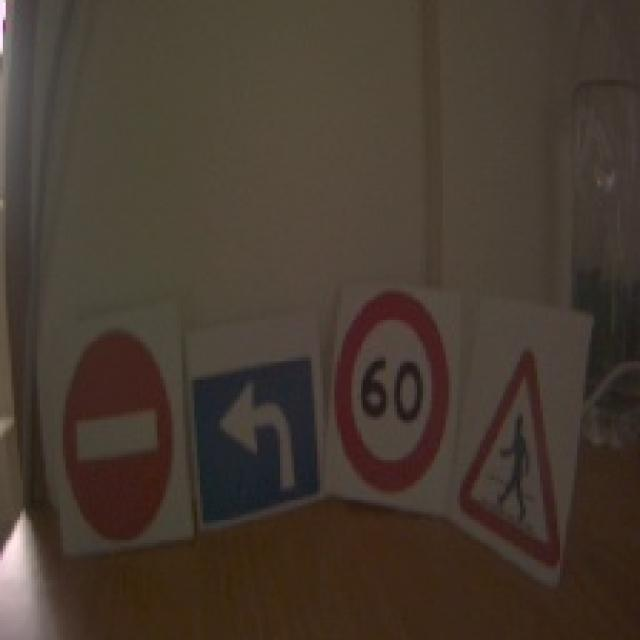DoNotEnterSign: (58, 326, 175, 547)
